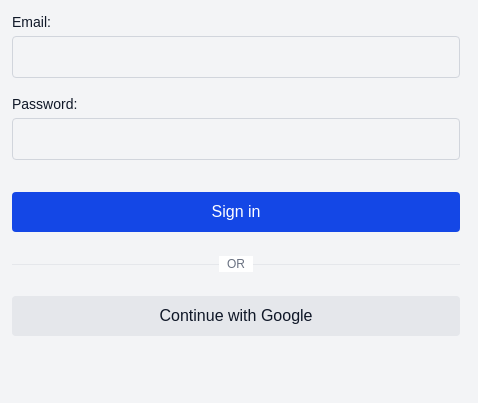
Test: SignInForm › validation › shows password required when email is valid and password is empty
Type "user@example.com" into the field labelled "Email:" at x=236, y=57, box x1=12 y1=36 x2=460 y2=78
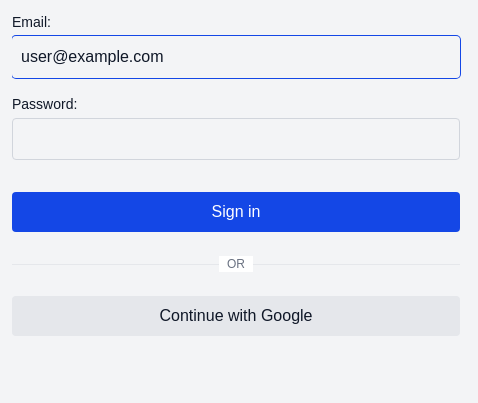
Click the button "Sign in" at x=236, y=212, box x1=12 y1=192 x2=460 y2=232
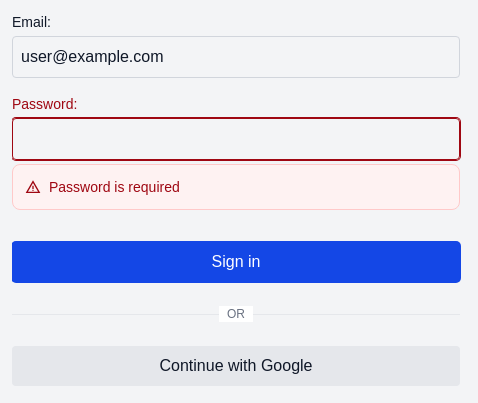
Now the text "Password is required" is shown, box x1=25 y1=179 x2=180 y2=195
